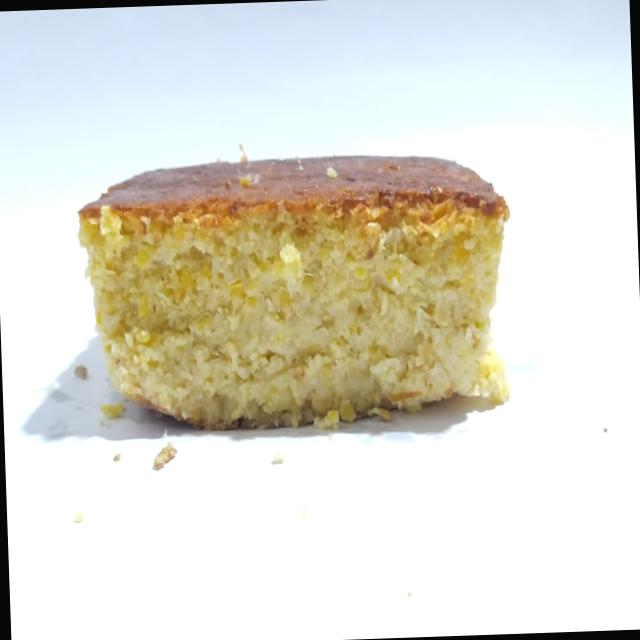Chipa_Guazu: (66, 126, 524, 458)
